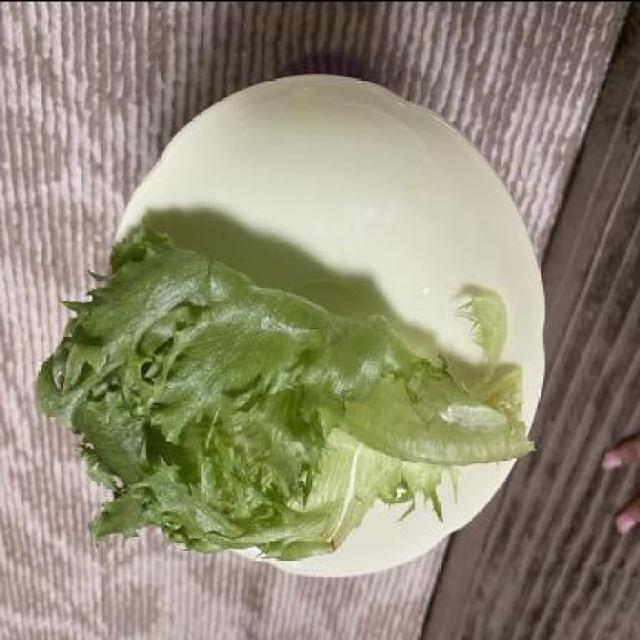Lettuce: (36, 232, 532, 562)
